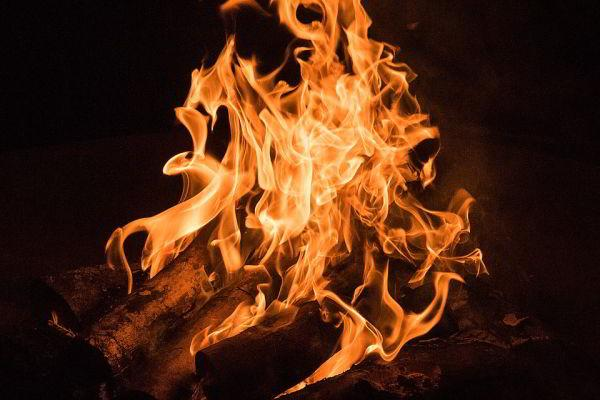fire: (107, 3, 492, 378)
